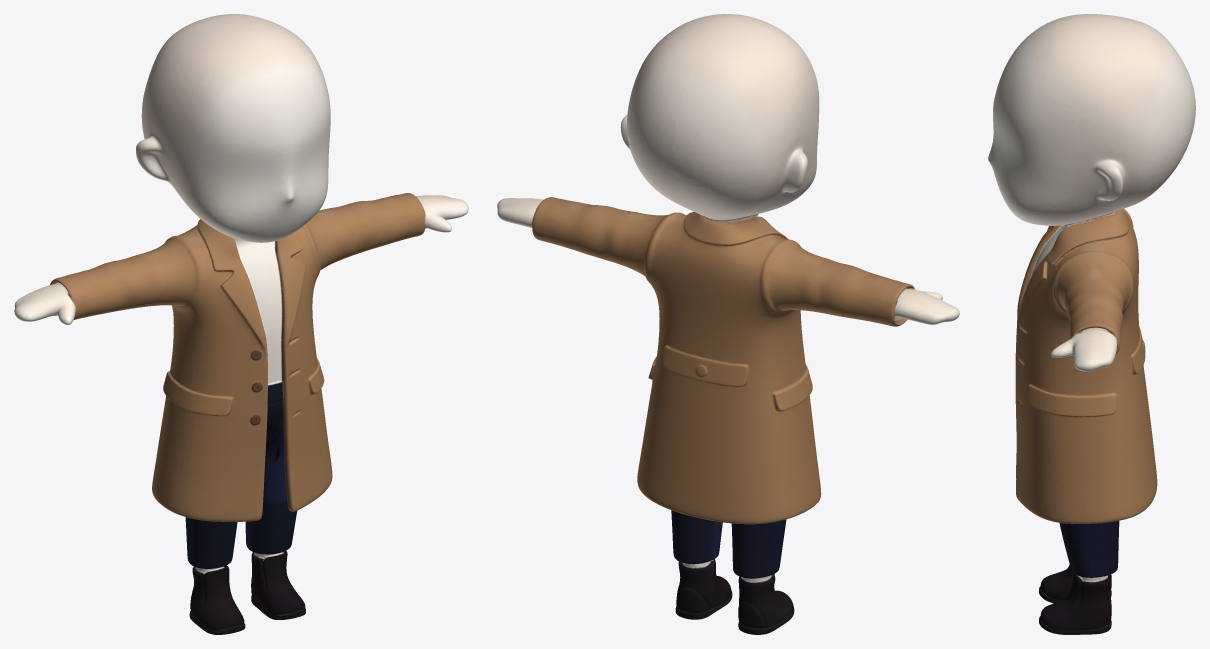
The model's file is baked_noutfit_coat.glb.
3 views of the same model, side by side, from view 1: azimuth 30°, elevation 25°; view 2: azimuth 150°, elevation 25°; view 3: azimuth 270°, elevation 25° (orthographic).
Bounding box in the file's own units: 1.54 × 1.9 × 0.6089.
1 material, 1 textured.
